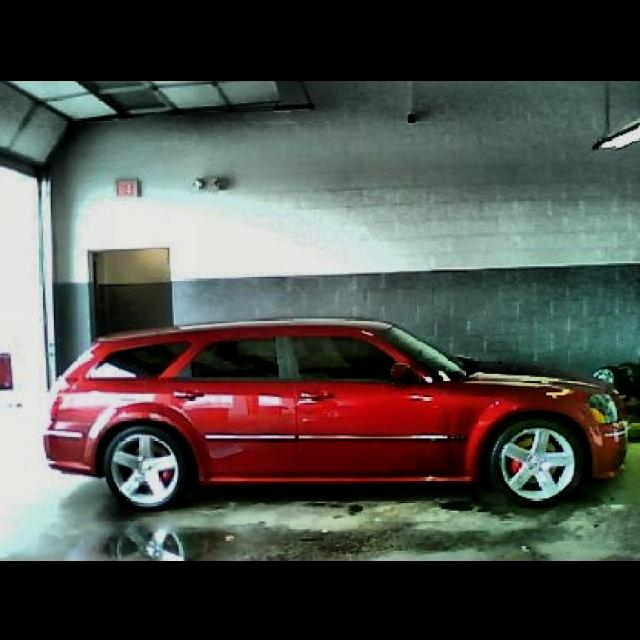maroon: (40, 317, 628, 509)
